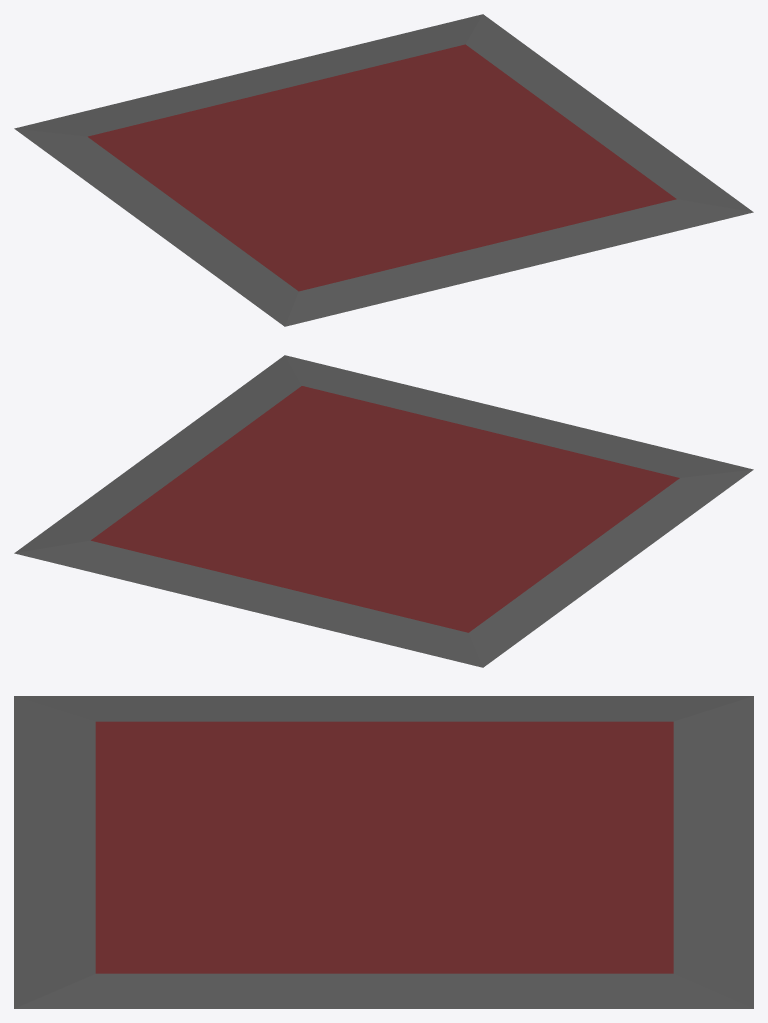
File: Teppich S.fbx
3 renders of one model, top to bottom at view 1: azimuth 30°, elevation 25°; view 2: azimuth 150°, elevation 25°; view 3: azimuth 270°, elevation 25°, orthographic. The views are drawn at different scales.
Parts seen in each view (by area): view 1: Teppich B; view 2: Teppich B; view 3: Teppich B.
Boxes of the visible parts, x1=… form: Teppich B: x1=14, y1=14, x2=753, y2=326; Teppich B: x1=14, y1=355, x2=753, y2=667; Teppich B: x1=14, y1=696, x2=753, y2=1008.
Bounding box in the file's own units: 80 × 0.4435 × 80.
